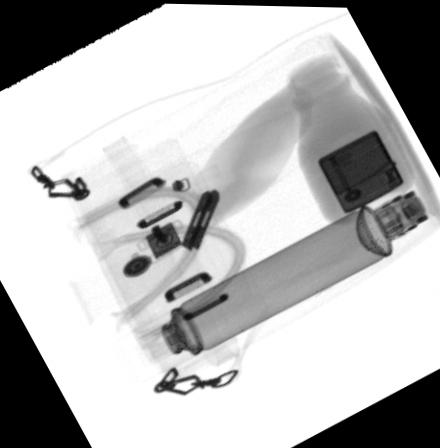Lighter: (318, 128, 403, 212)
Sprayer: (112, 202, 392, 384)
